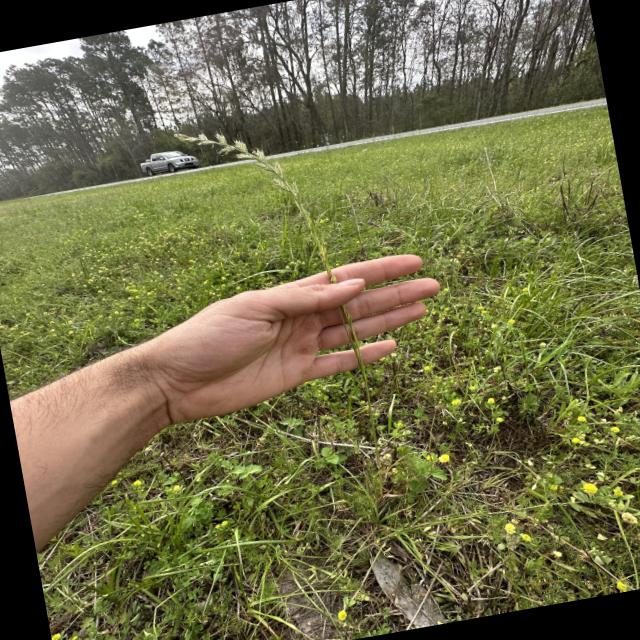Lolium: (174, 107, 380, 418)
